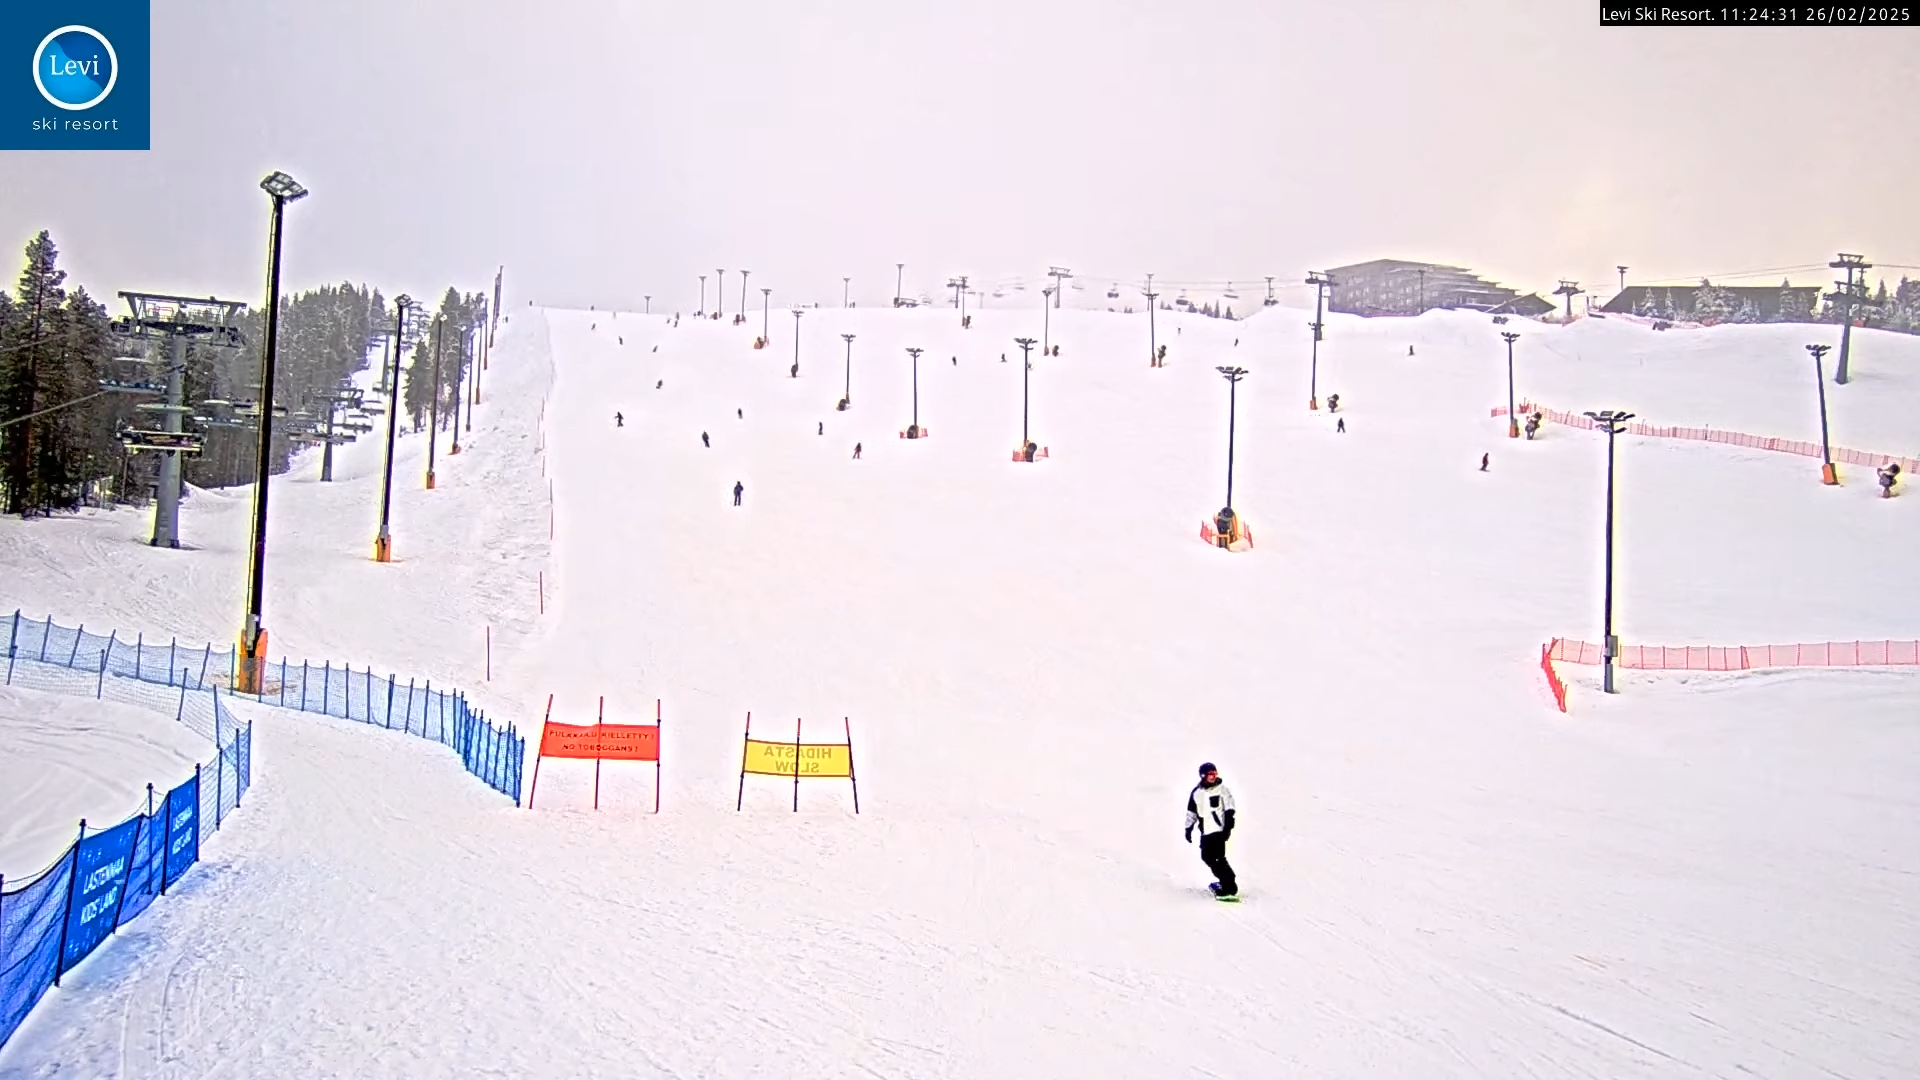snowboarder: (1184, 760, 1247, 903)
